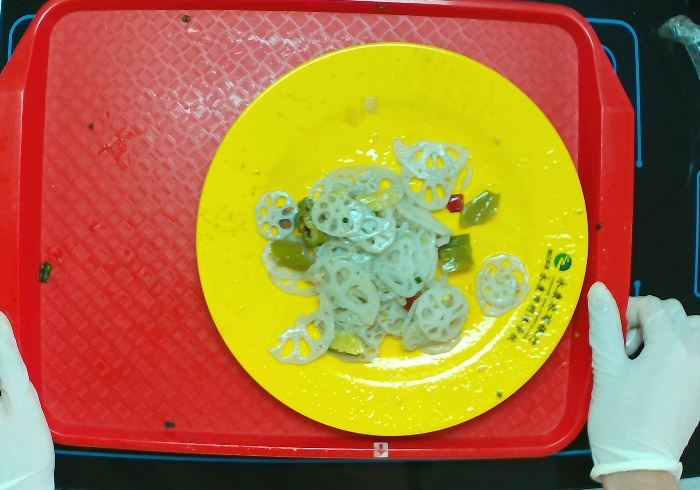YKMZ-Huang_Se_Mian_Pan: (190, 38, 598, 435)
